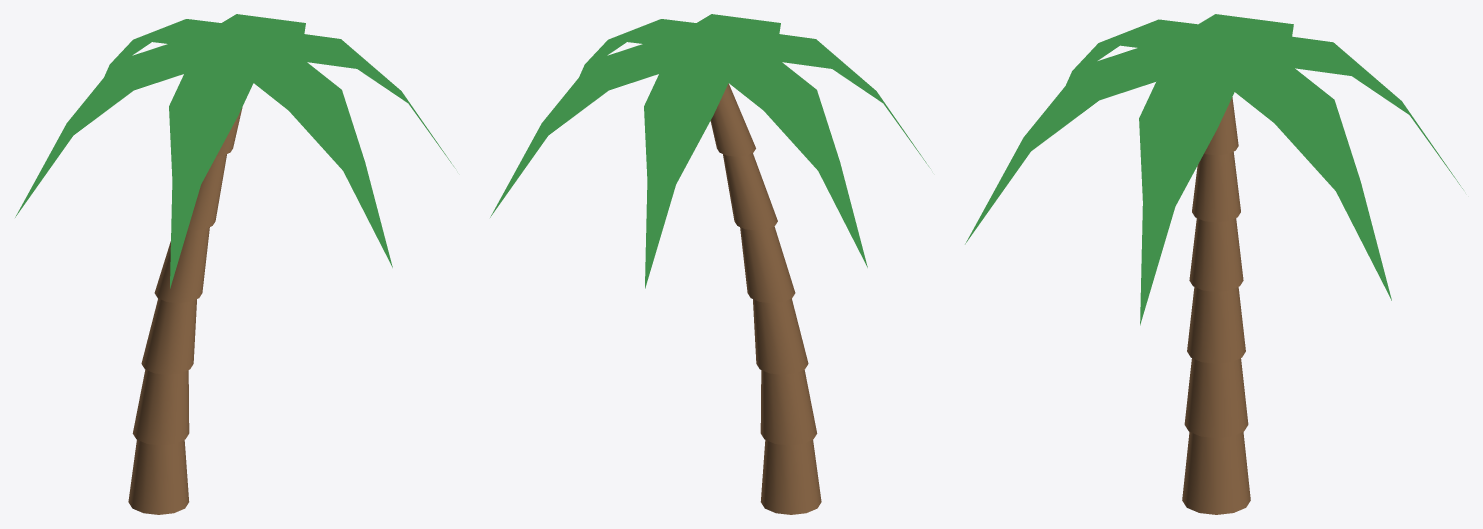
Rendered from palm.glb.
The picture shows the model from 3 angles, left to right: view 1: azimuth 30°, elevation 25°; view 2: azimuth 150°, elevation 25°; view 3: azimuth 270°, elevation 25°; orthographic projection. The views are drawn at different scales.
Parts seen in each view (by area): view 1: palm; view 2: palm; view 3: palm.
Boxes of the visible parts, x1,y1,x2,y2 form: palm: (15,14,455,514); palm: (490,14,930,514); palm: (965,14,1463,514).
Bounding box in the file's own units: 2.45 × 2.66 × 2.5.
